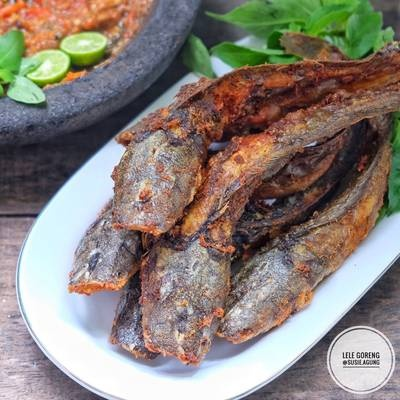pecel_lele: (141, 91, 393, 352), (105, 49, 393, 225), (208, 127, 395, 359)
